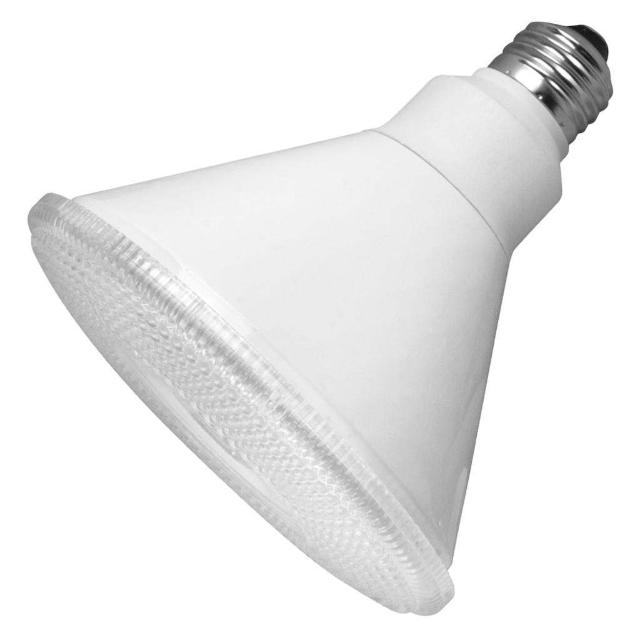light_bulb: (20, 16, 624, 622)
